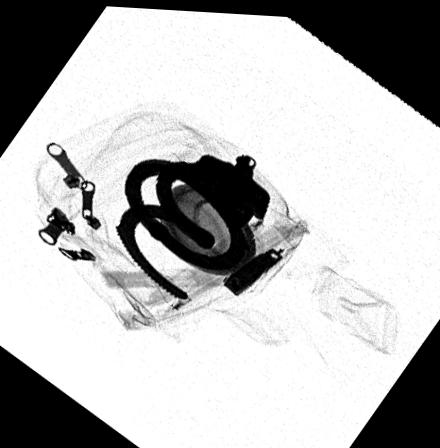HandCuffs: (114, 150, 271, 298)
